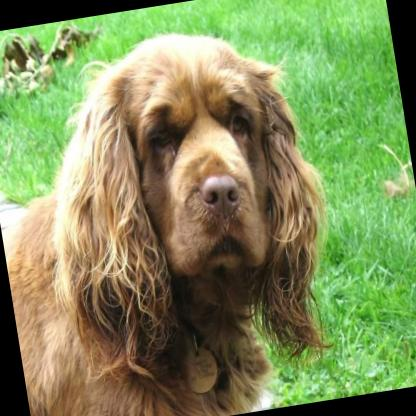Sussex_spaniel: (0, 8, 355, 416)
